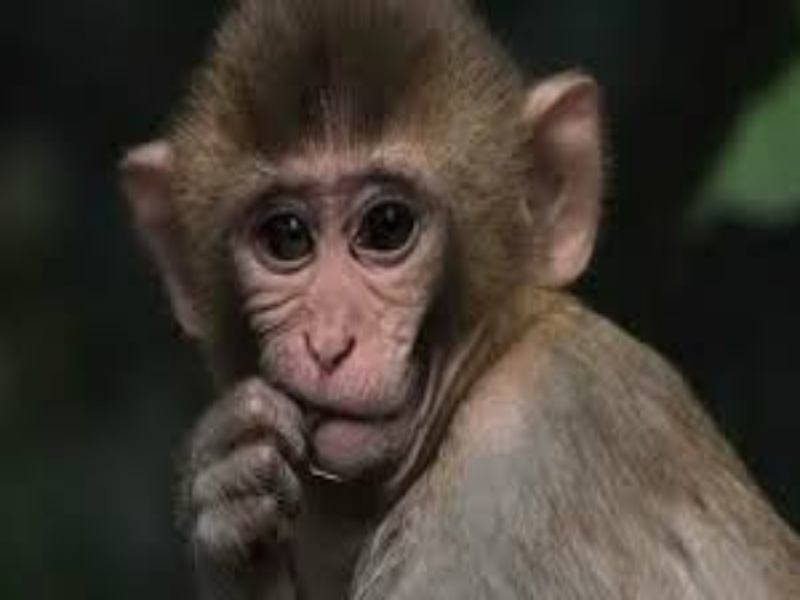monkey: (98, 3, 762, 591)
